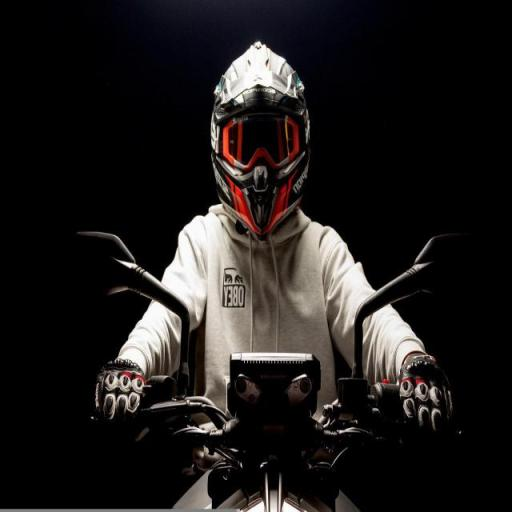Helmet: (195, 30, 341, 236)
